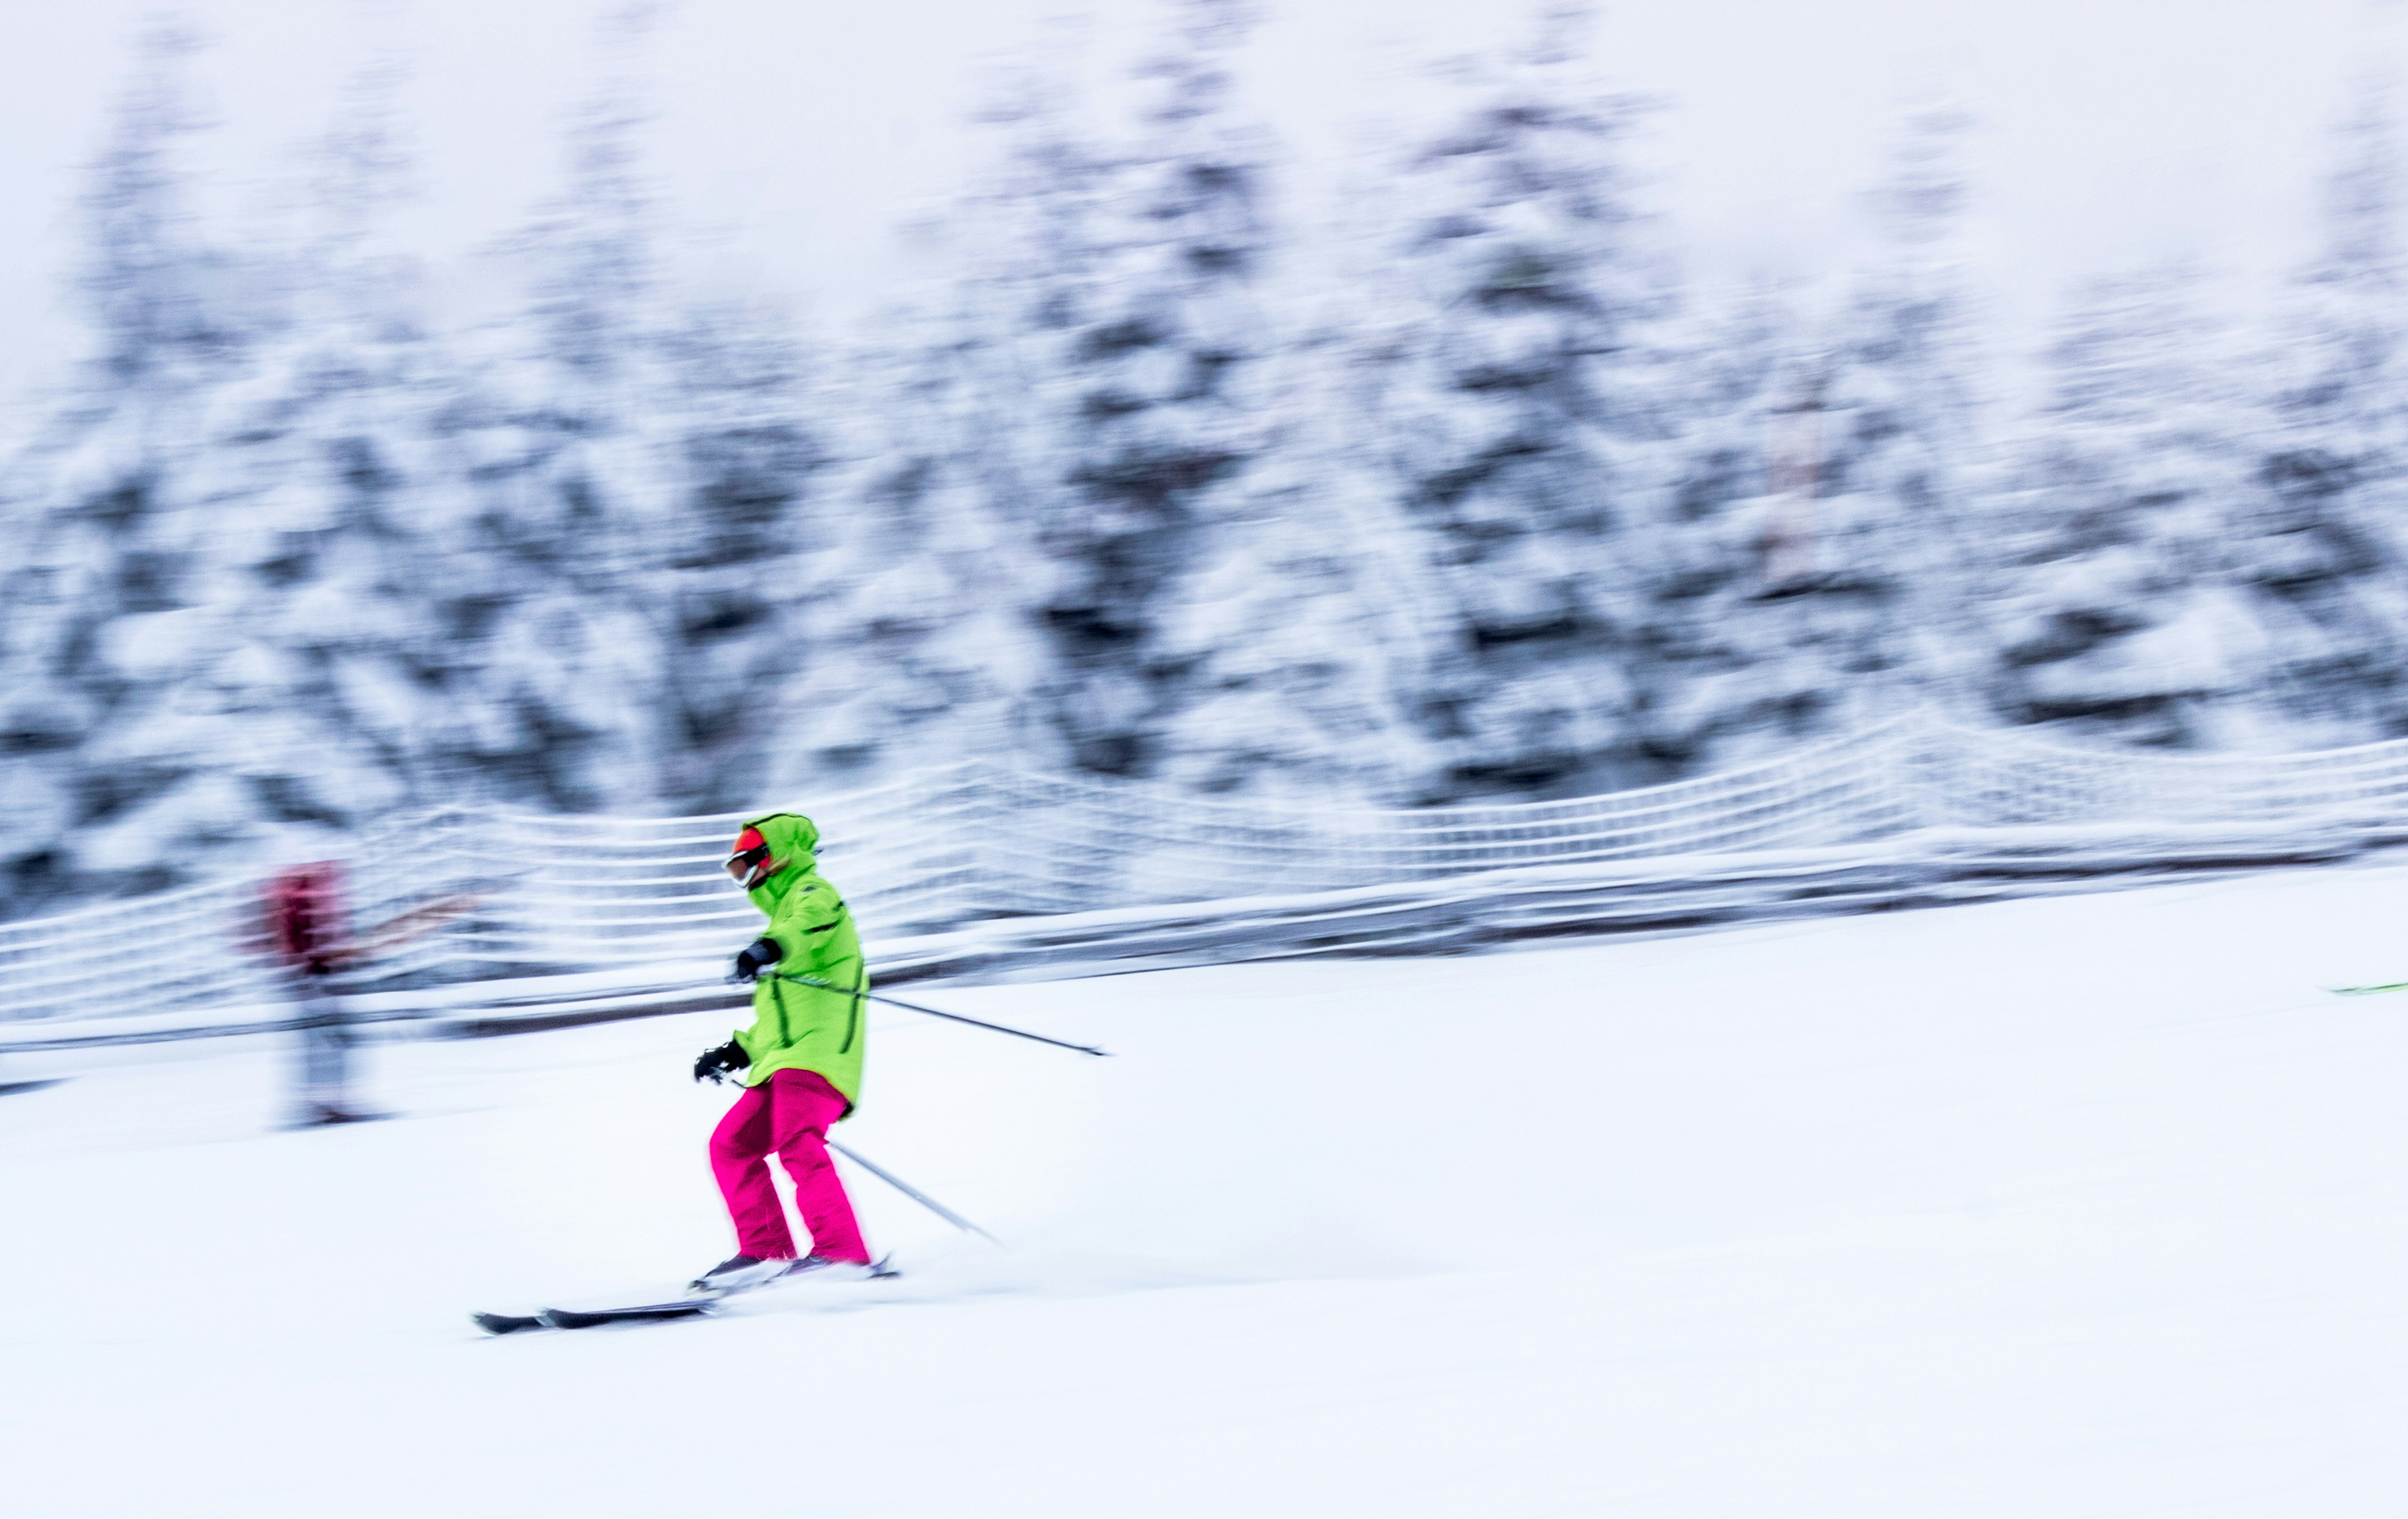skier: (467, 810, 1112, 1339)
